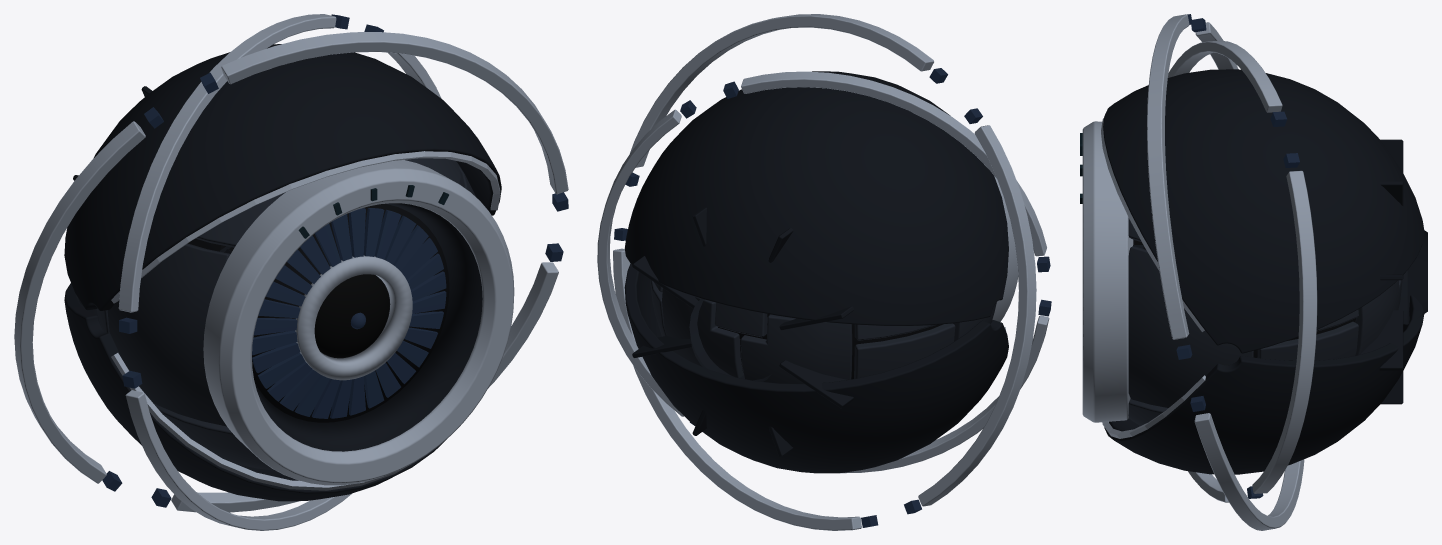
The model's file is ch1-scorer.glb.
3 renders of one model, left to right at view 1: azimuth 30°, elevation 25°; view 2: azimuth 150°, elevation 25°; view 3: azimuth 270°, elevation 25°, orthographic. The views are drawn at different scales.
Parts seen in each view (by area): view 1: lid_top, bezel, ring_outer_band, bulb, housing, ring_inner_band, throat, lid_bottom, pupil_ring, pupil, iris_back, lid_top_lip (+3 smaller); view 2: lid_top, lid_bottom, ring_outer_band, housing, ring_inner_band, fins, ring_outer_nodes, bezel, hub, ring_inner_nodes, core; view 3: lid_top, lid_bottom, housing, bezel, ring_outer_band, ring_inner_band, fins, hub, lid_top_lip, lid_bottom_lip, ring_outer_nodes, ring_inner_nodes.
Part boxes in pixels (x1,y1,x2,y2): lid_top: [64, 44, 501, 310]; bezel: [203, 160, 514, 485]; ring_outer_band: [14, 32, 568, 512]; bulb: [252, 208, 446, 418]; housing: [96, 158, 476, 470]; ring_inner_band: [118, 14, 441, 530]; throat: [254, 203, 482, 451]; lid_bottom: [64, 283, 446, 501]; pupil_ring: [295, 255, 412, 380]; pupil: [314, 274, 389, 357]; iris_back: [252, 203, 449, 422]; lid_top_lip: [111, 151, 500, 303]; lid_top: [624, 71, 1008, 325]; lid_bottom: [624, 263, 1008, 473]; ring_outer_band: [613, 14, 1036, 530]; housing: [650, 279, 996, 383]; ring_inner_band: [597, 71, 1049, 473]; fins: [632, 207, 854, 456]; ring_outer_nodes: [614, 68, 982, 527]; bezel: [992, 176, 1018, 321]; hub: [689, 298, 775, 381]; ring_inner_nodes: [680, 81, 1051, 425]; core: [718, 314, 942, 379]; lid_top: [1103, 69, 1424, 353]; lid_bottom: [1104, 295, 1424, 474]; housing: [1128, 218, 1402, 425]; bezel: [1082, 121, 1133, 422]; ring_outer_band: [1147, 14, 1304, 530]; ring_inner_band: [1168, 40, 1317, 502]; fins: [1360, 139, 1403, 404]; hub: [1398, 230, 1427, 324]; lid_top_lip: [1101, 118, 1204, 331]; lid_bottom_lip: [1102, 375, 1205, 438]; ring_outer_nodes: [1176, 14, 1206, 411]; ring_inner_nodes: [1247, 111, 1299, 498].
Size of the model in its own units: 0.5869 by 0.5776 by 0.394.
